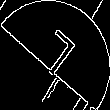L_SW: (30, 25, 80, 85)
